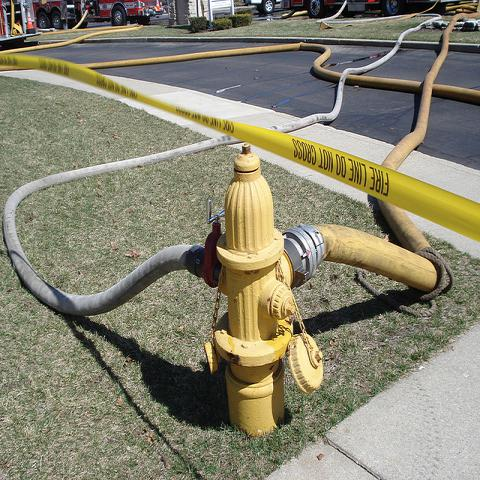car: (242, 0, 282, 14)
truck: (65, 0, 163, 30), (307, 0, 430, 18)
